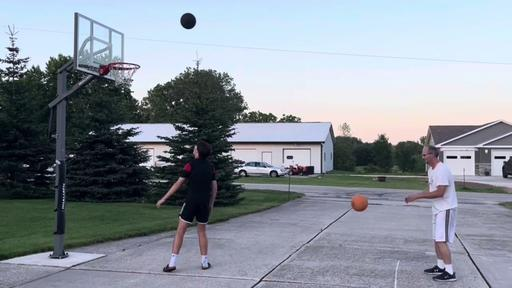ball: (350, 196, 369, 212), (180, 13, 196, 29)
human: (155, 140, 216, 272), (404, 144, 458, 282)
rim: (108, 63, 140, 89)
